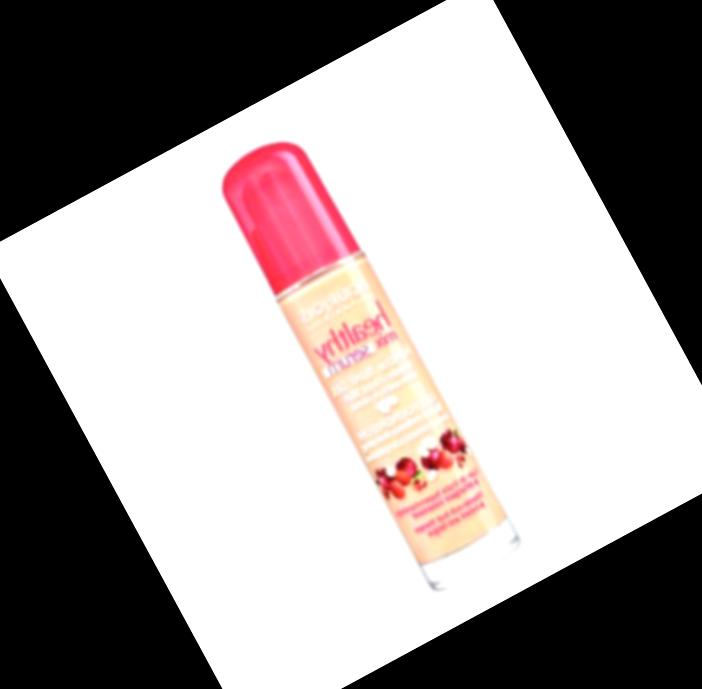cosmetic: (206, 124, 525, 592)
